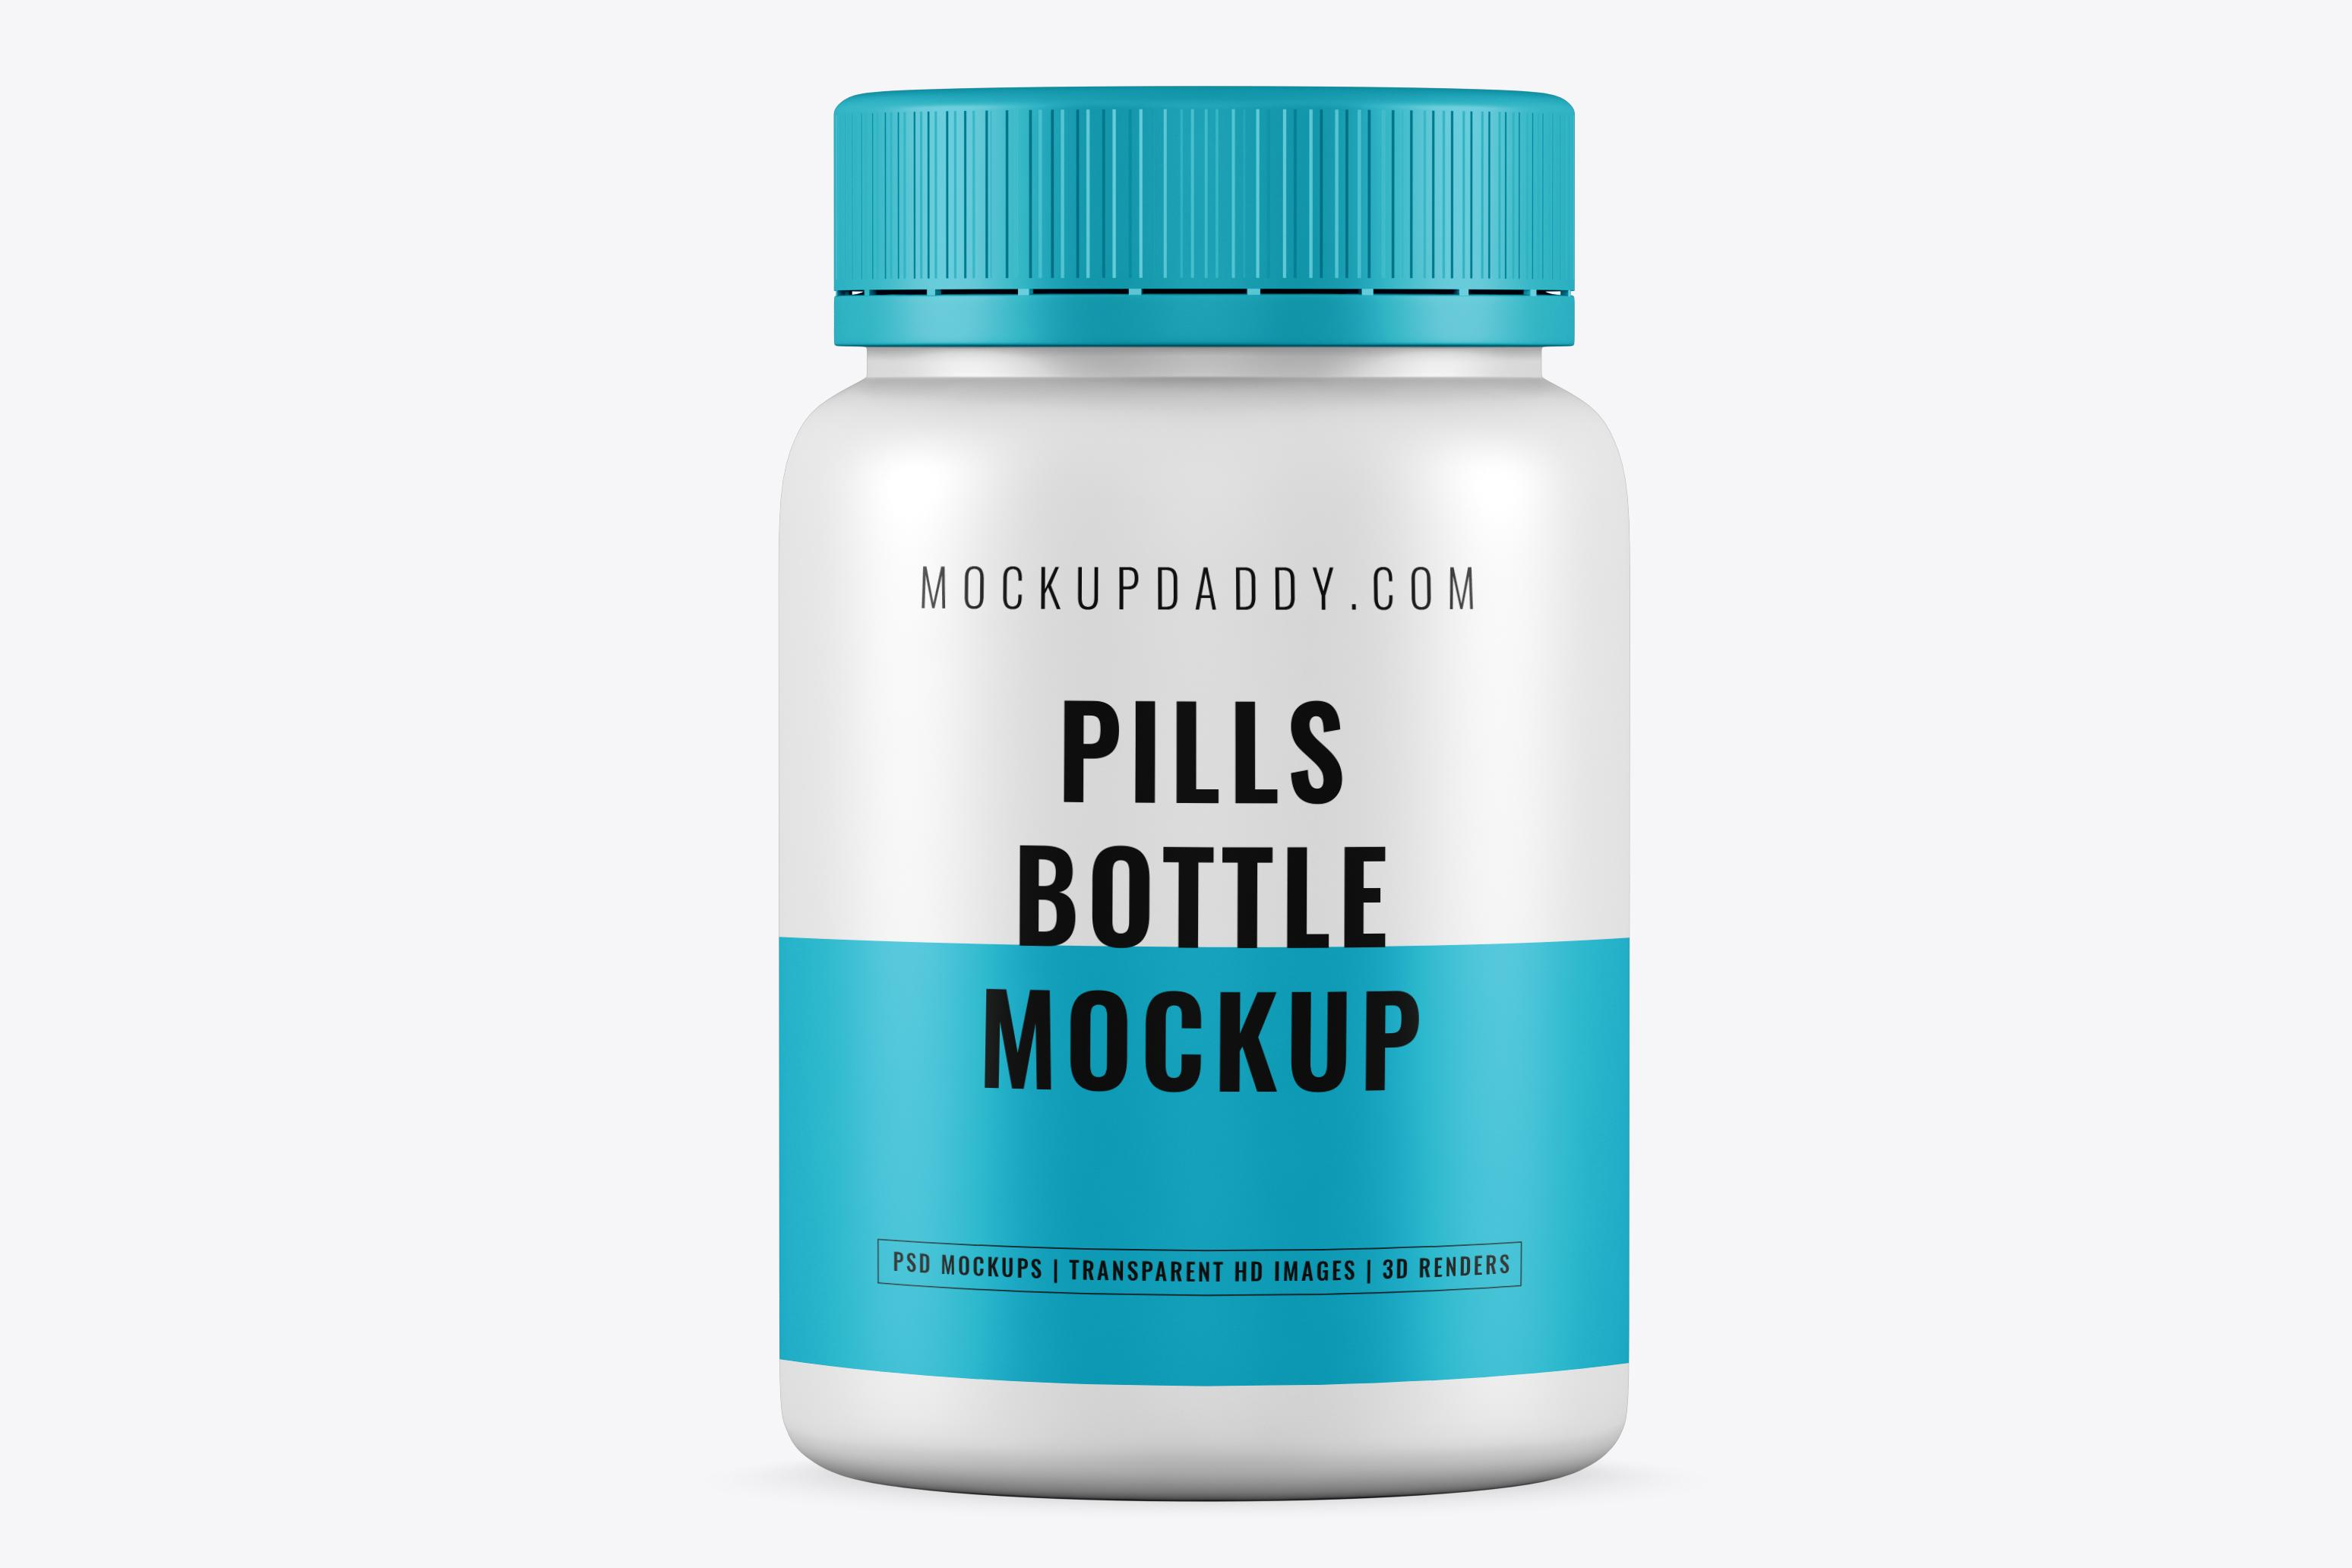jar: (770, 86, 1643, 1507)
